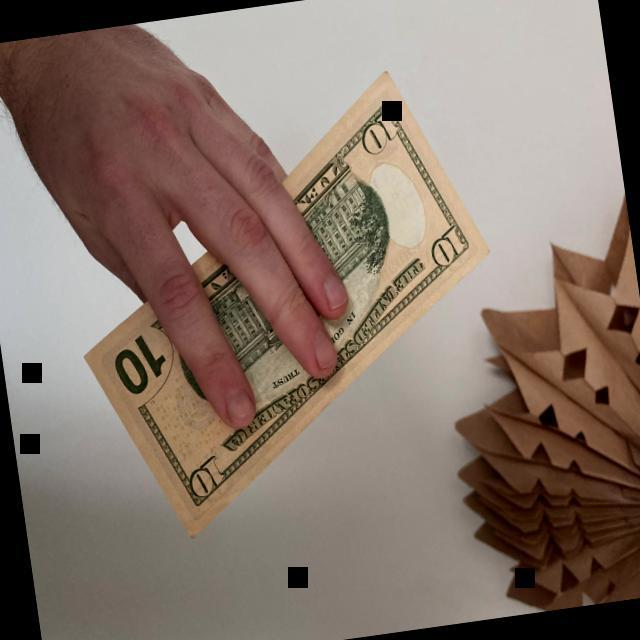ten: (82, 72, 491, 543)
